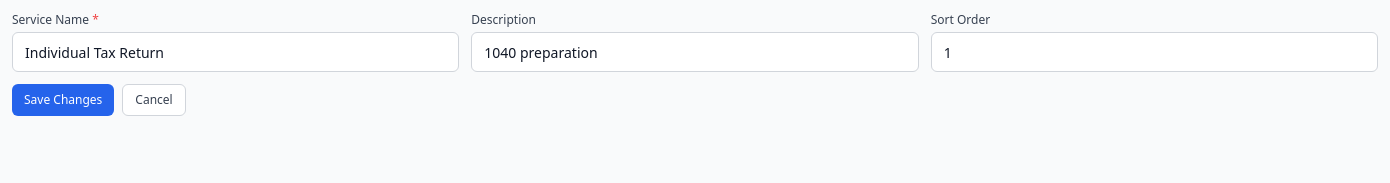
Test: [AC-DASH-010-02] edit form pre-fills and submits to updateServiceAction › displays error message when updateServiceAction returns { success: false }
Click the button "Save Changes".
click(63, 100)  # box top-left (12, 84), bottom-right (114, 116)
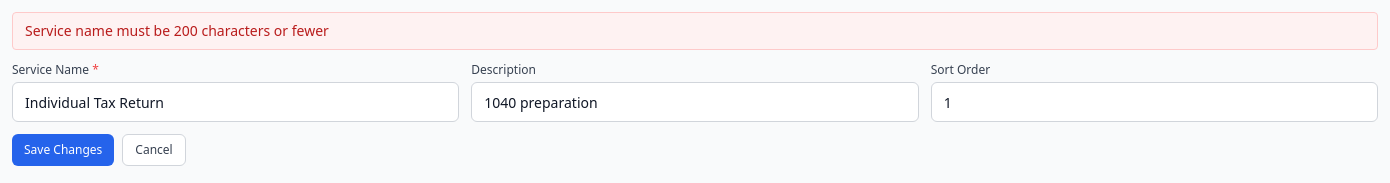
Expected: the message reads "Service name must be 200 characters or fewer", top-left (25, 21), bottom-right (329, 40)
